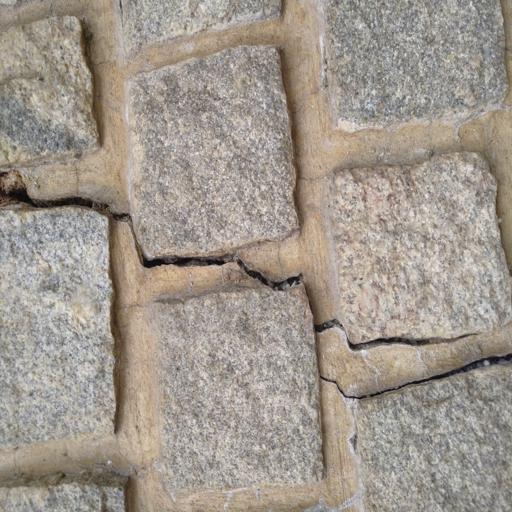major_crack: (3, 159, 512, 434)
